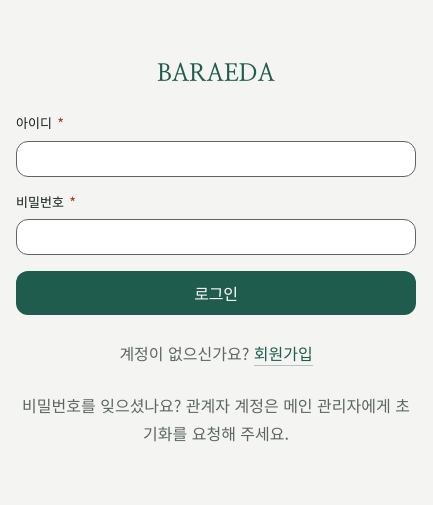
it: LoginForm — 에러 코드별 분기 › INVALID_CREDENTIALS 는 남은 시도 횟수를 안내한다
Type "staffA" into the field labelled "아이디 *".
click(216, 159); type("staffA")  # box [16,141,416,177]
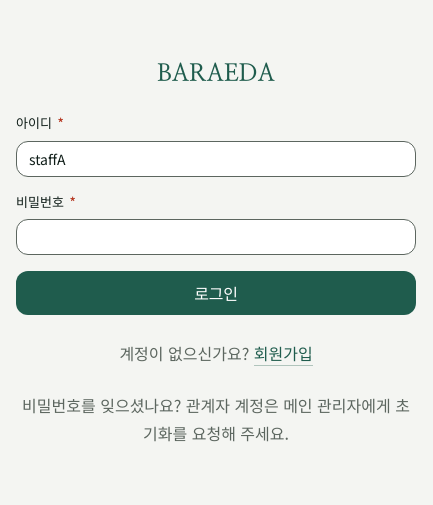
Type "password" into the password field labelled "비밀번호 *".
click(216, 237); type("password")  # box [16,219,416,255]
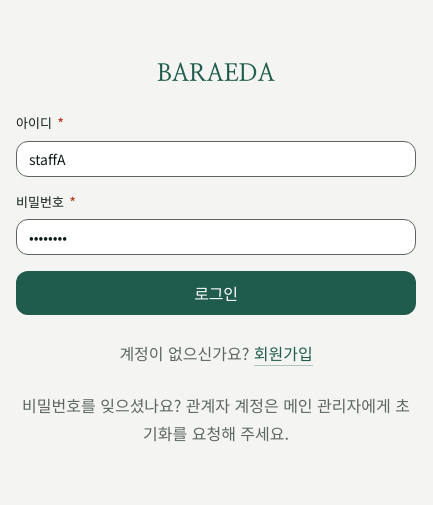
Submit the form, box [16,114,416,315]
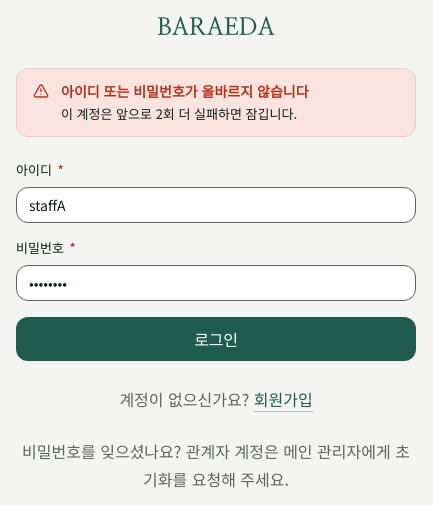
Expected: the button "로그인" is shown, [16,317,416,361]
Expected: the text "아이디 또는 비밀번호가 올바르지 않습니다" is shown, [61,81,308,101]
Expected: the text "이 계정은 앞으로 2회 더 실패하면 잠깁니다." is shown, [61,104,297,123]
